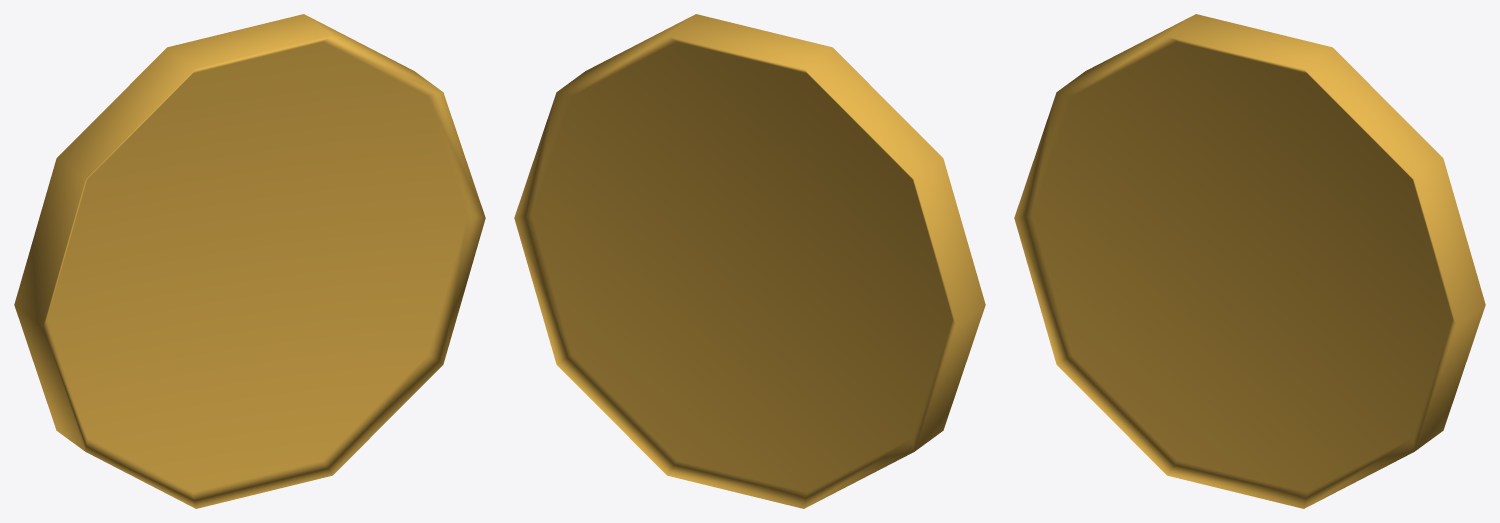
File: Coin.fbx
3 renders of one model, left to right at view 1: azimuth 30°, elevation 25°; view 2: azimuth 150°, elevation 25°; view 3: azimuth 330°, elevation 25°, orthographic.
Visible parts, largest first — view 1: pCylinder1; view 2: pCylinder1; view 3: pCylinder1.
Part boxes in pixels (x1,y1,x2,y2): pCylinder1: (14, 14, 485, 508); pCylinder1: (514, 14, 985, 508); pCylinder1: (1014, 14, 1485, 508).
Size of the model in its own units: 210 by 200 by 23.86.
